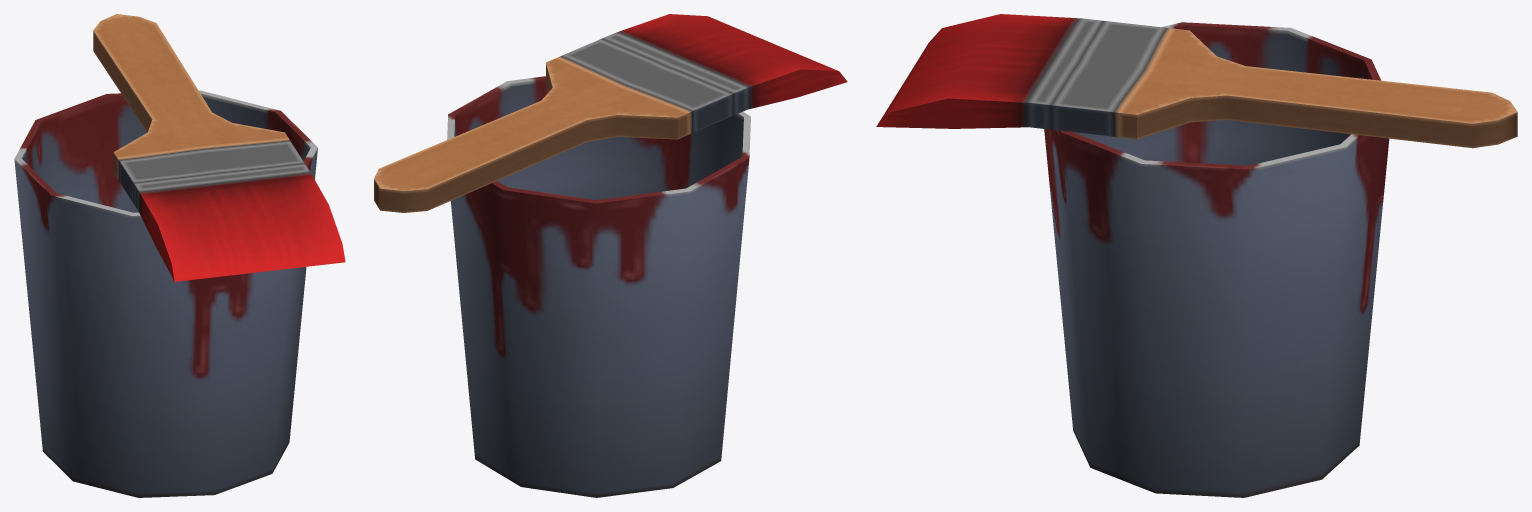
File: TianZhuJiaoTang_01_youqi_01.FBX
3 renders of one model, left to right at view 1: azimuth 30°, elevation 25°; view 2: azimuth 150°, elevation 25°; view 3: azimuth 270°, elevation 25°, orthographic. The views are drawn at different scales.
Parts seen in each view (by area): view 1: TianZhuJiaoTang_01_youqi_01; view 2: TianZhuJiaoTang_01_youqi_01; view 3: TianZhuJiaoTang_01_youqi_01.
Boxes of the visible parts, <box> form: TianZhuJiaoTang_01_youqi_01: <box>14,14,345,497</box>; TianZhuJiaoTang_01_youqi_01: <box>374,14,847,497</box>; TianZhuJiaoTang_01_youqi_01: <box>876,14,1517,497</box>.
Size of the model in its own units: 155 by 183 by 286.
